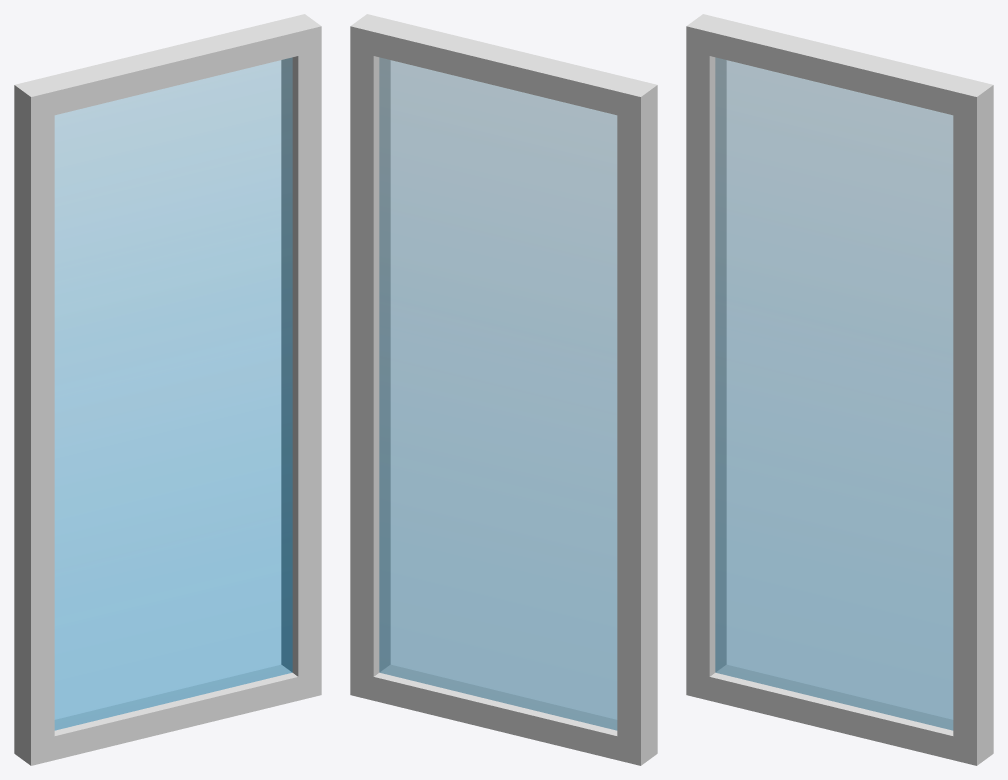
The model's file is Window_White_04.glb.
3 renders of one model, left to right at view 1: azimuth 30°, elevation 25°; view 2: azimuth 150°, elevation 25°; view 3: azimuth 330°, elevation 25°, orthographic.
Visible parts, largest first — view 1: Window_White_04; view 2: Window_White_04; view 3: Window_White_04.
Part boxes in pixels (x1,y1,x2,y2): Window_White_04: (14, 14, 321, 765); Window_White_04: (350, 14, 657, 765); Window_White_04: (686, 14, 993, 765).
Bounding box in the file's own units: 1 × 2.2 × 0.1.
Materials: 2 (2 with a texture image).
